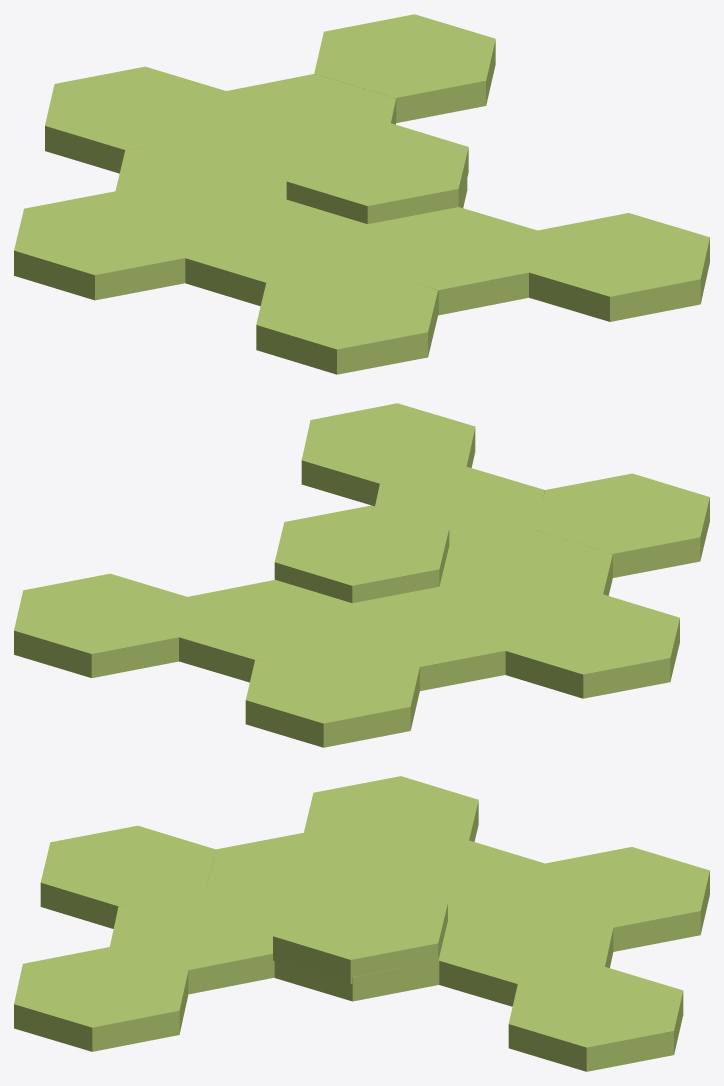
File: land green.fbx
The picture shows the model from 3 angles, top to bottom: view 1: azimuth 30°, elevation 25°; view 2: azimuth 150°, elevation 25°; view 3: azimuth 270°, elevation 25°; orthographic projection. The views are drawn at different scales.
Visible parts, largest first — view 1: l_3, l_1, l_5, l_7, l_10, l_2, l_4, l_9, l_6, l_8; view 2: l_5, l_9, l_10, l_7, l_3, l_6, l_1, l_8, l_4, l_2; view 3: l_7, l_10, l_1, l_9, l_8, l_2, l_3, l_5, l_6, l_4.
Part boxes in pixels (x1,y1,x2,y2): l_3: (256, 265, 437, 374); l_1: (529, 213, 709, 321); l_5: (14, 191, 195, 300); l_7: (286, 122, 468, 224); l_10: (314, 14, 495, 122); l_2: (357, 207, 537, 315); l_4: (185, 199, 365, 306); l_9: (45, 66, 225, 173); l_6: (115, 133, 292, 216); l_8: (217, 74, 396, 155); l_5: (505, 594, 679, 698); l_9: (245, 643, 419, 747); l_10: (14, 573, 187, 677); l_7: (274, 505, 449, 603); l_3: (535, 473, 709, 577); l_6: (342, 587, 515, 690); l_1: (301, 403, 475, 506); l_8: (179, 580, 350, 682); l_4: (439, 530, 612, 610); l_2: (375, 467, 544, 546); l_7: (273, 879, 447, 1001); l_10: (508, 967, 683, 1071); l_1: (14, 947, 188, 1051); l_9: (535, 847, 709, 951); l_8: (439, 904, 613, 1006); l_2: (110, 889, 278, 994); l_3: (40, 825, 215, 928); l_5: (304, 776, 478, 856); l_6: (374, 840, 544, 920); l_4: (206, 833, 380, 911).
Size of the model in its own units: 2995 by 215 by 3243.
